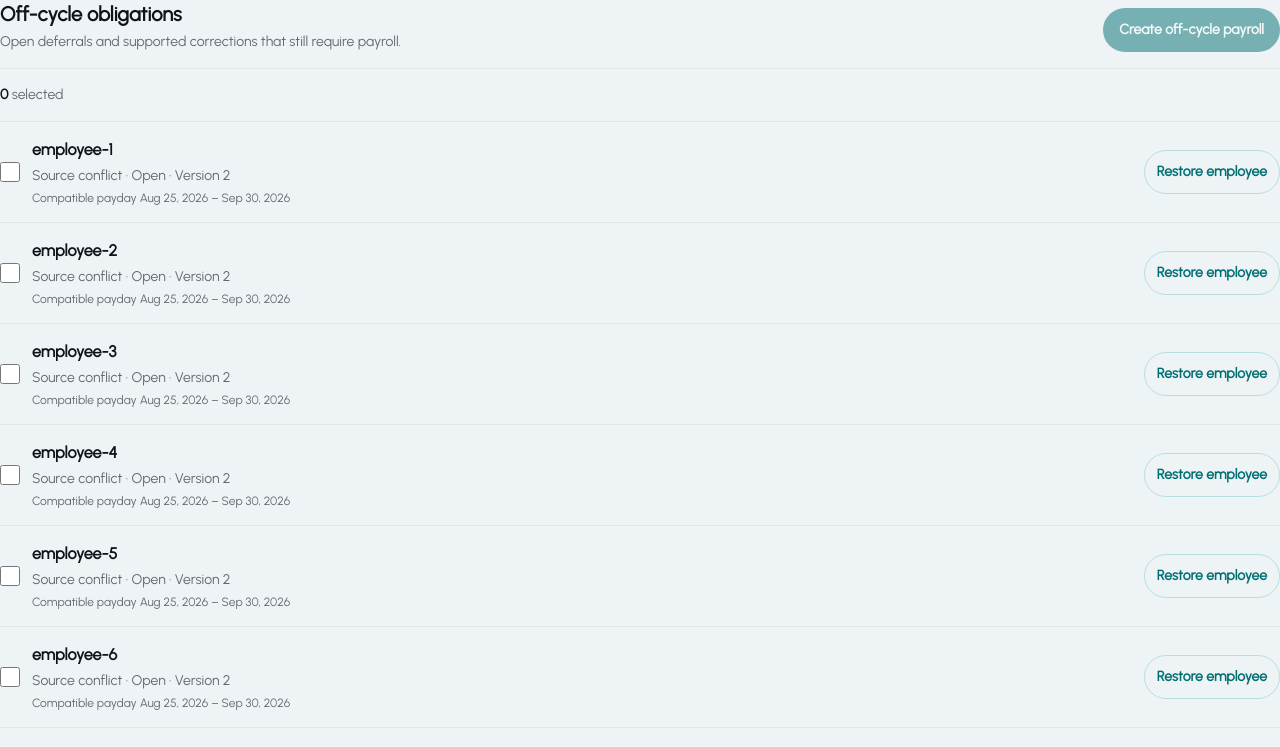
Scenario: PayrollObligationsPanel › opens Task 15's version-bound dialog only for a capable compatible selection and cancels without mutation
The width and height of the screenshot is (1280, 747).
Later steps or results of the test are not shown.
Click the checkbox named "select obligation for employee-1".
click(10, 172)  # box [0, 162, 20, 182]
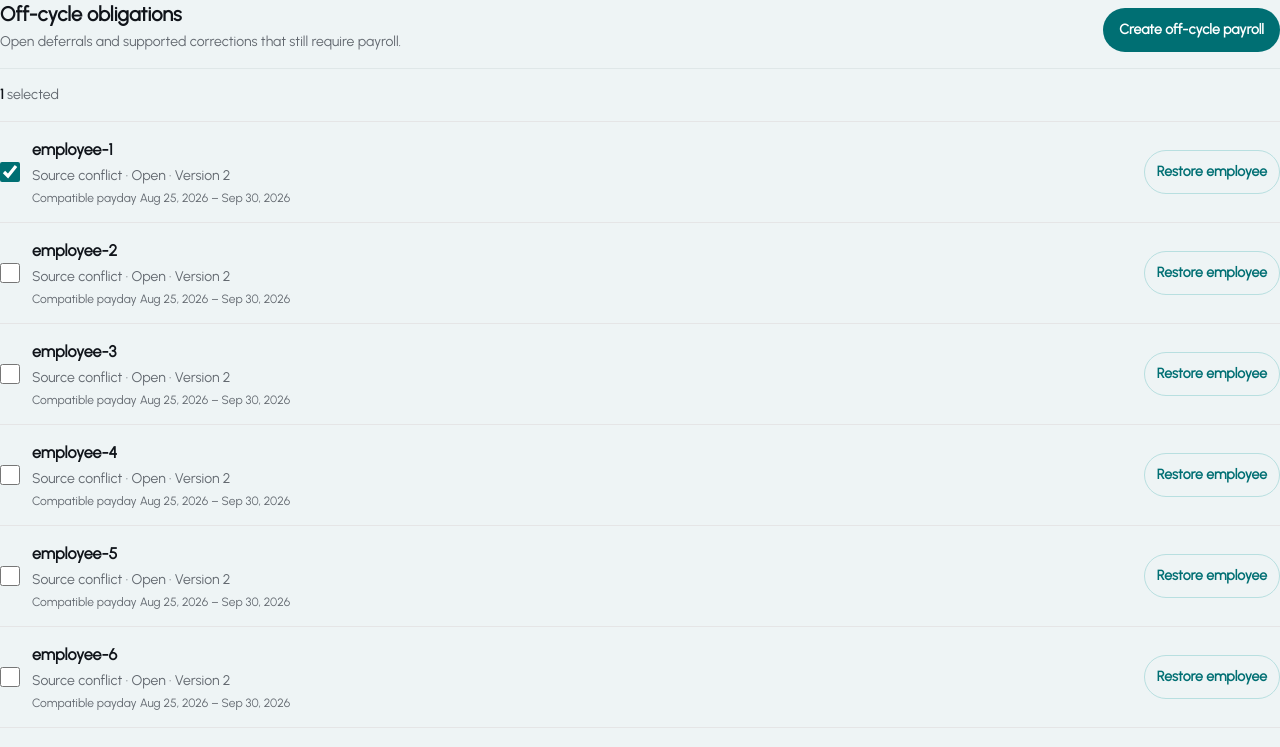
Click the button "Create off-cycle payroll".
click(1192, 30)  # box [1103, 8, 1279, 52]
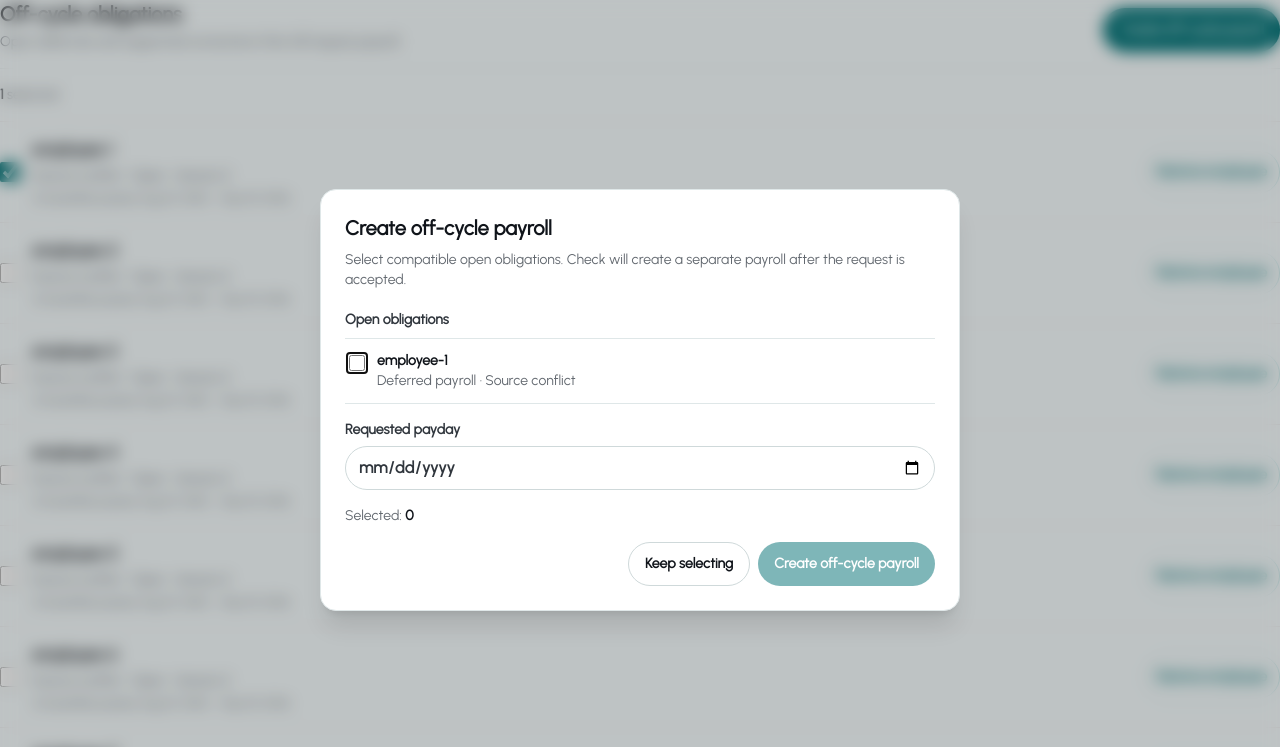
Expected: the dialog "Create off-cycle payroll" is shown, [320, 189, 960, 611]
